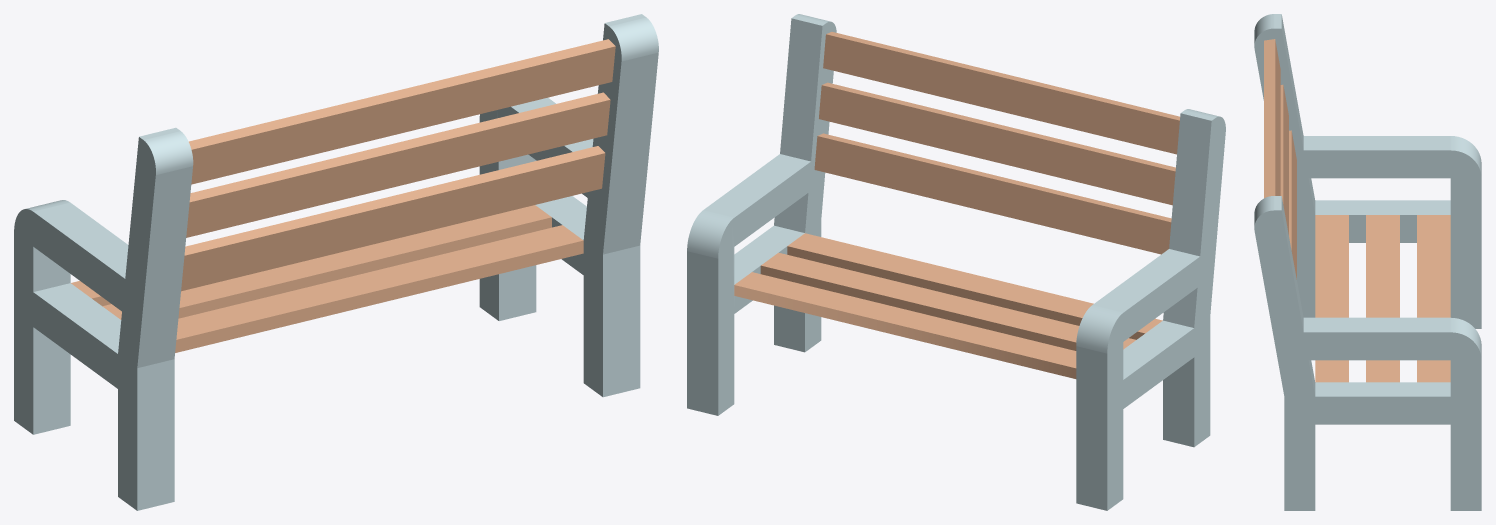
Rendered from bench.glb.
The picture shows the model from 3 angles, left to right: view 1: azimuth 30°, elevation 25°; view 2: azimuth 150°, elevation 25°; view 3: azimuth 270°, elevation 25°; orthographic projection. The views are drawn at different scales.
Visible parts, largest first — view 1: bench; view 2: bench; view 3: bench.
Part boxes in pixels (x1,y1,x2,y2): bench: [14, 14, 658, 510]; bench: [687, 14, 1225, 510]; bench: [1254, 14, 1481, 510].
Size of the model in its own units: 0.7695 by 0.549 by 0.3763.
